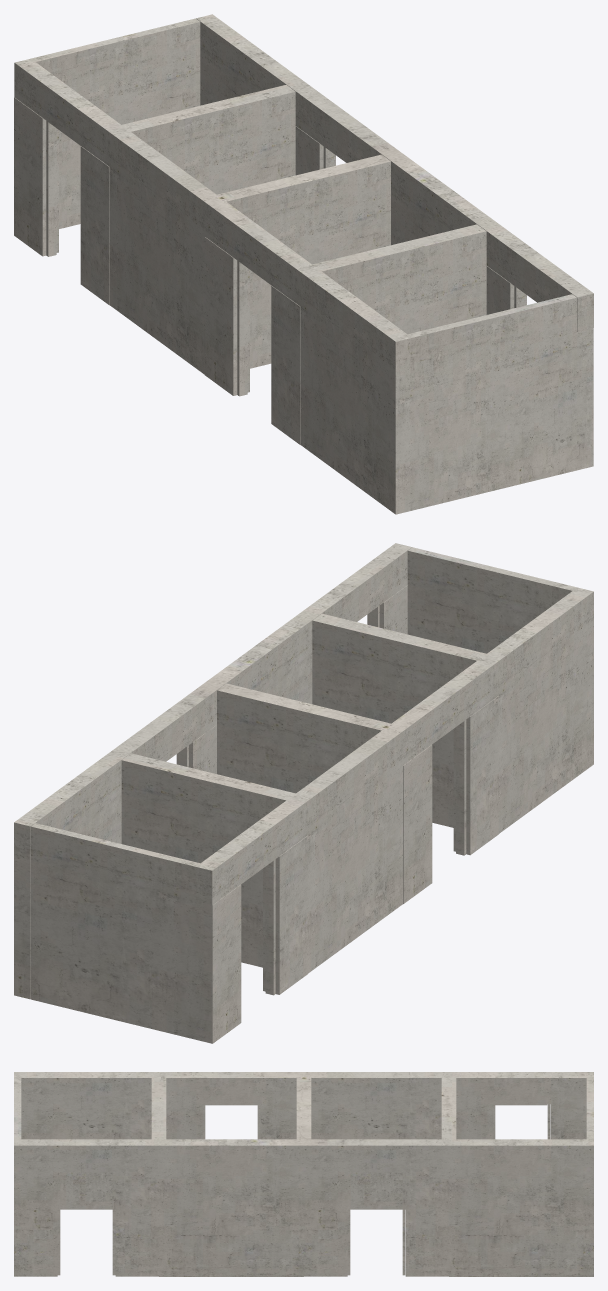
Rendered from InnerWalls1.fbx.
3 views of the same model, one above another, from view 1: azimuth 30°, elevation 25°; view 2: azimuth 150°, elevation 25°; view 3: azimuth 270°, elevation 25° (orthographic). The views are drawn at different scales.
Parts seen in each view (by area): view 1: walls, top; view 2: walls, top; view 3: walls, top.
Part boxes in pixels (x1,y1,x2,y2): walls: [14, 56, 593, 514]; top: [14, 14, 593, 376]; walls: [14, 585, 593, 1043]; top: [14, 543, 593, 905]; walls: [14, 1104, 593, 1276]; top: [14, 1072, 593, 1171].
Size of the model in its own units: 12.02 by 10 by 40.
